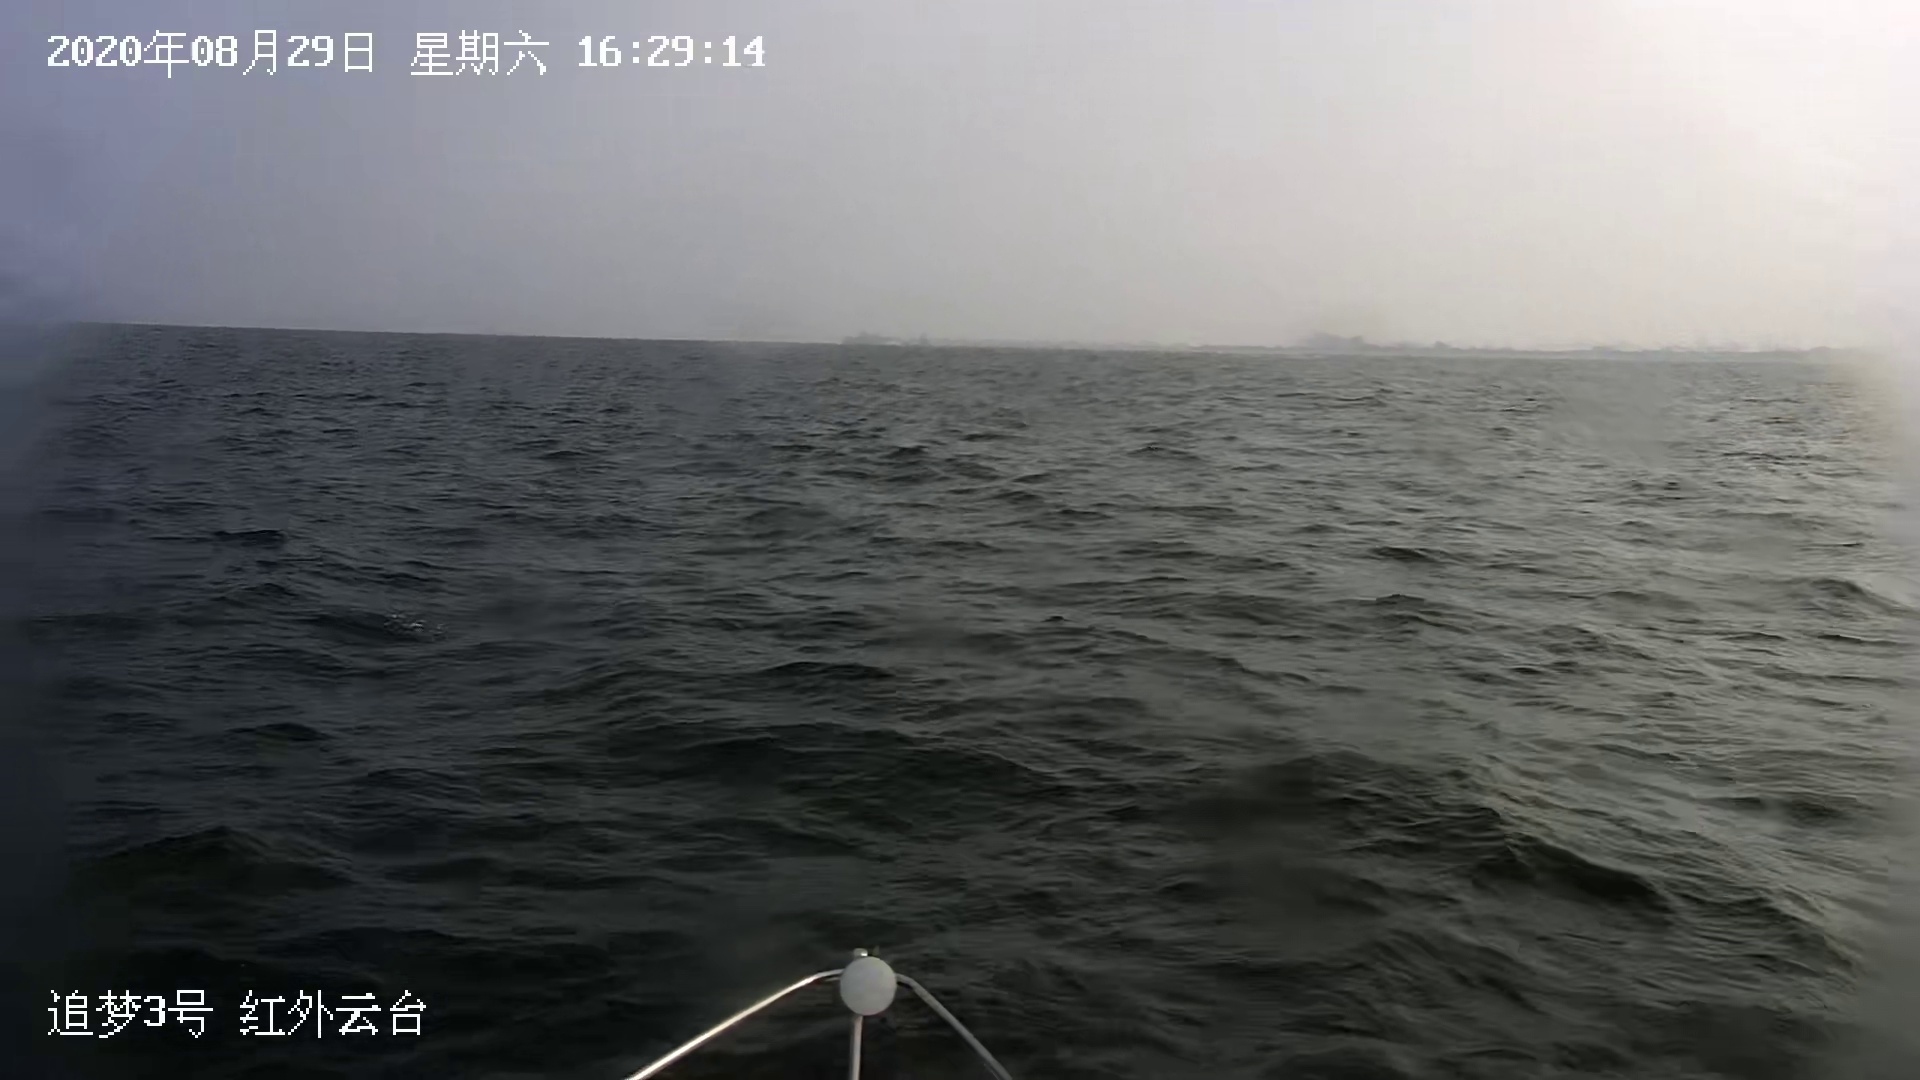coast: (837, 309, 1920, 363)
